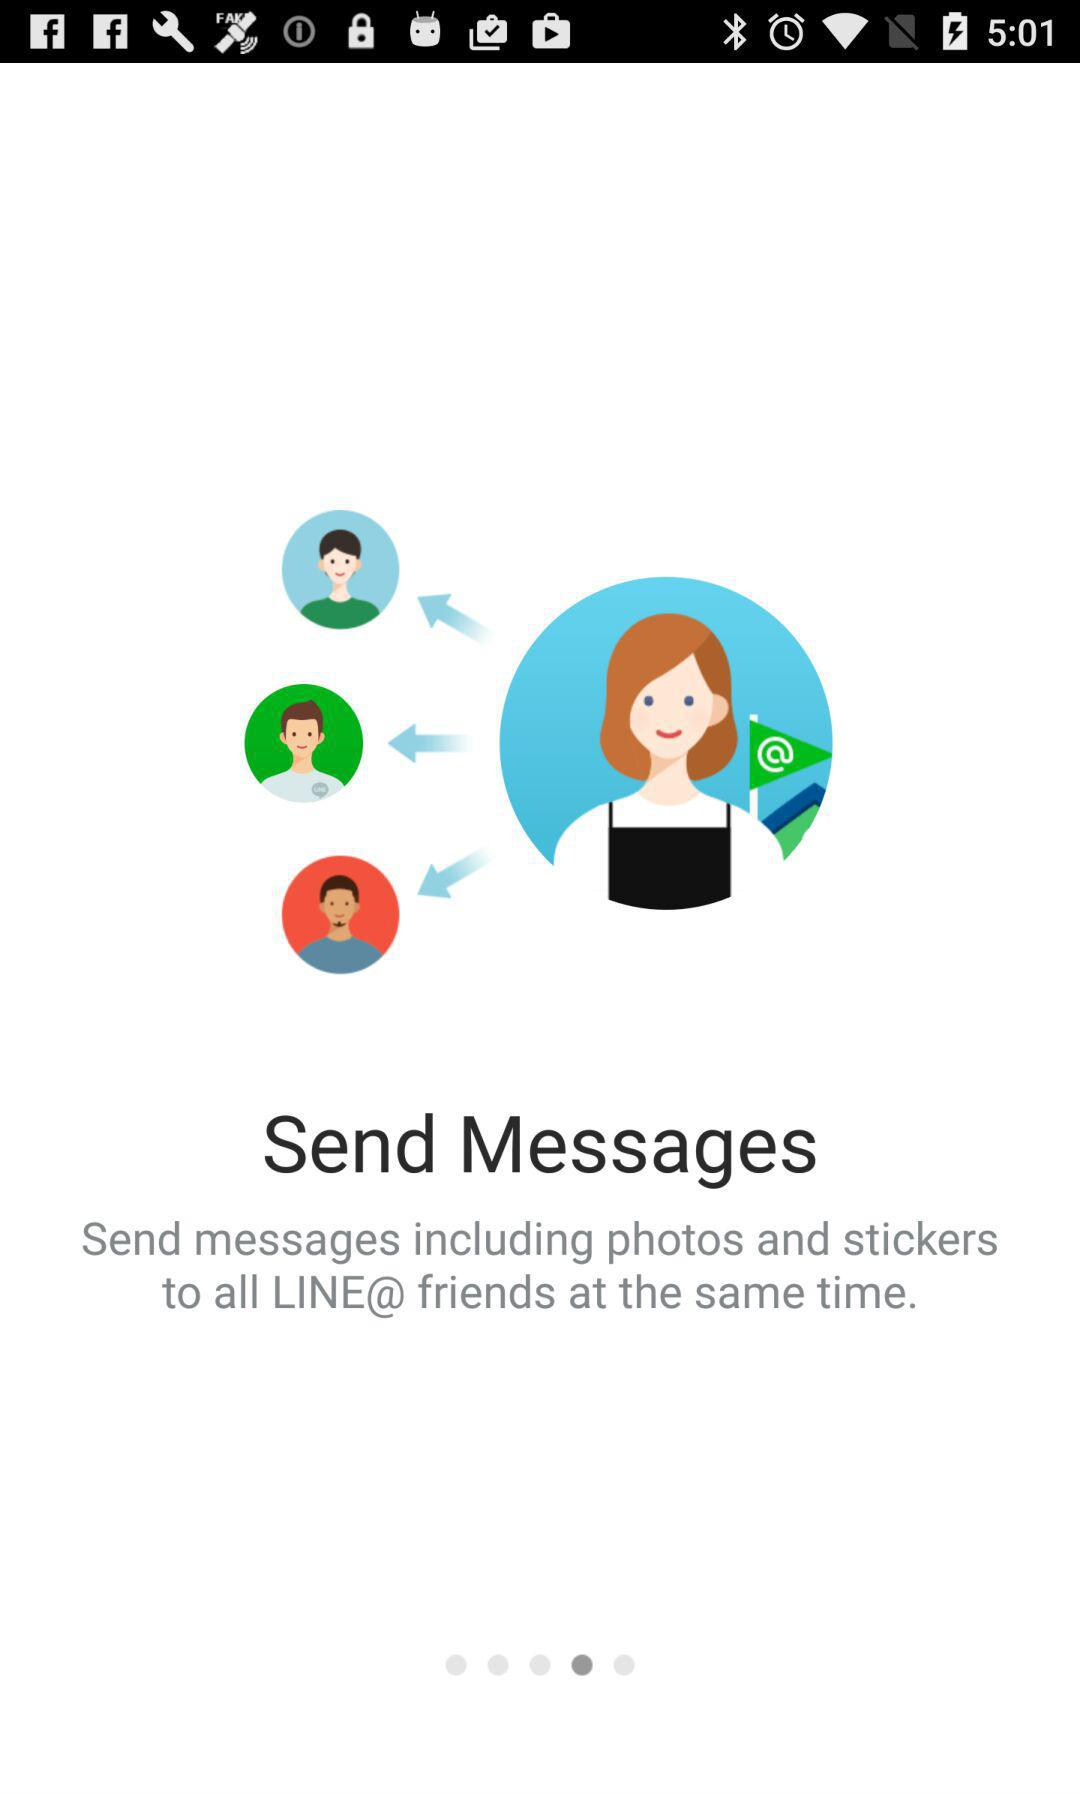Image: (241, 507, 835, 976)
PageIndicator: (445, 1653, 637, 1677)
Text: (81, 1220, 1001, 1320), (263, 1111, 817, 1192)
UpperTaskBar: (1, 1, 1080, 64)
